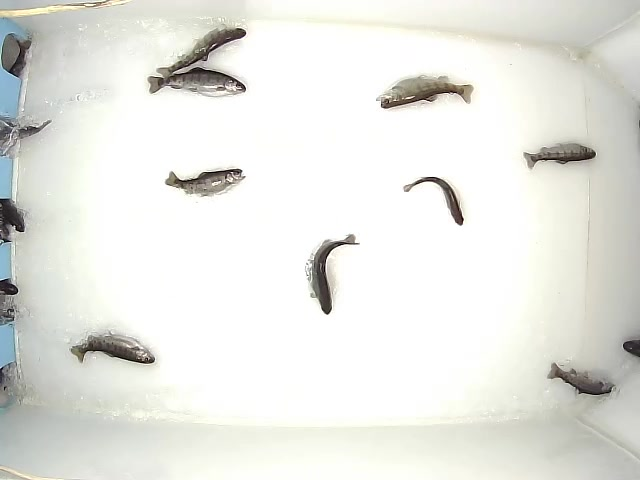fish: (155, 25, 248, 82), (305, 233, 361, 316), (374, 74, 476, 109), (401, 176, 465, 228), (69, 330, 156, 367), (147, 67, 246, 99), (546, 360, 618, 397), (163, 168, 248, 197), (520, 141, 597, 173)
